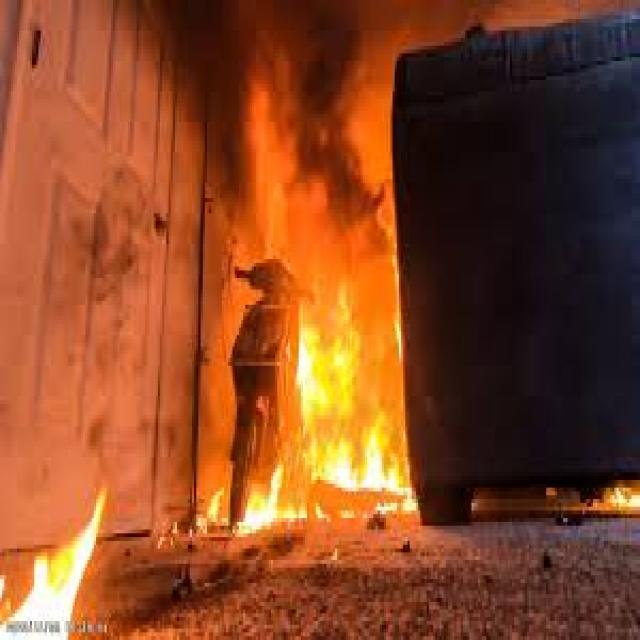fire: (213, 301, 414, 533), (2, 476, 111, 640)
smoke: (258, 4, 397, 259), (126, 3, 258, 228)
